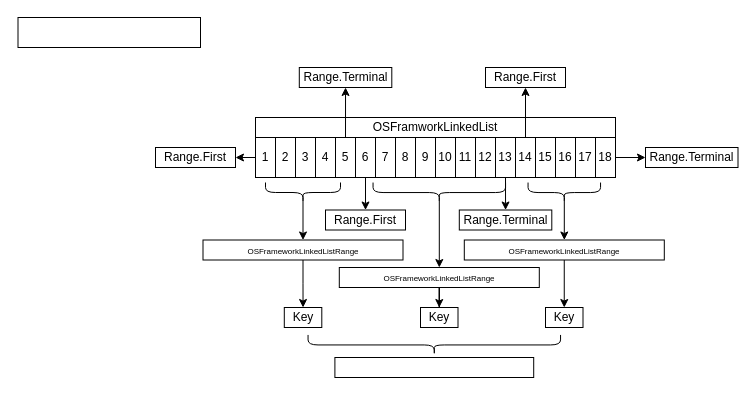
The diagram is 755 pixels wide and 395 high, and some of its shapes have lost their labels. Each missing label, with the centre of its shape:
"LinkedList,Range,MultiDictionary" goes at [108,32].
"OSFrameworkMultiDictionary" goes at [434,367].
